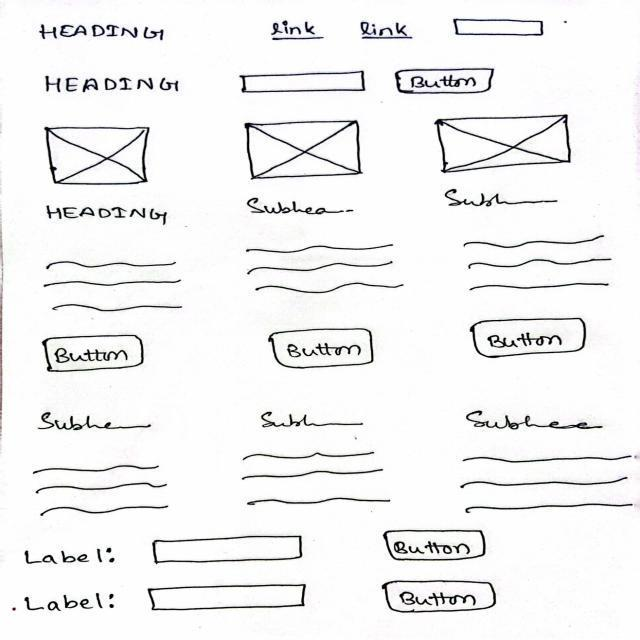textarea: (142, 583, 311, 616), (144, 534, 311, 564), (233, 69, 371, 98), (447, 12, 549, 43)
